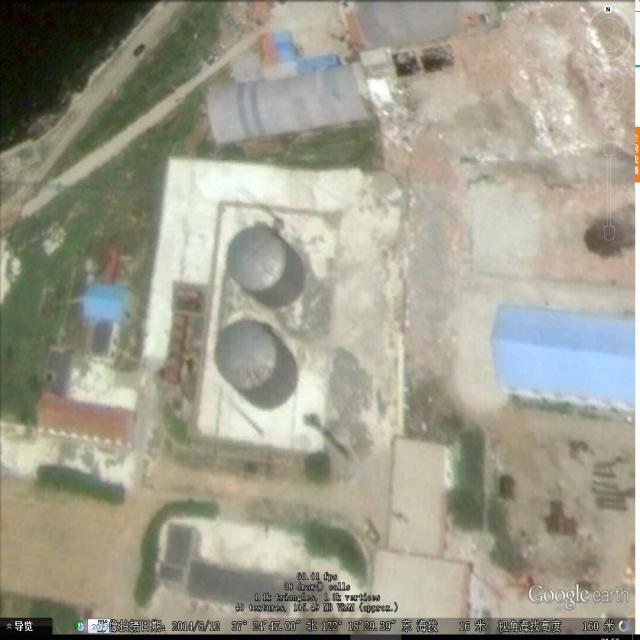oiltank: (211, 315, 302, 413), (222, 222, 307, 311)
